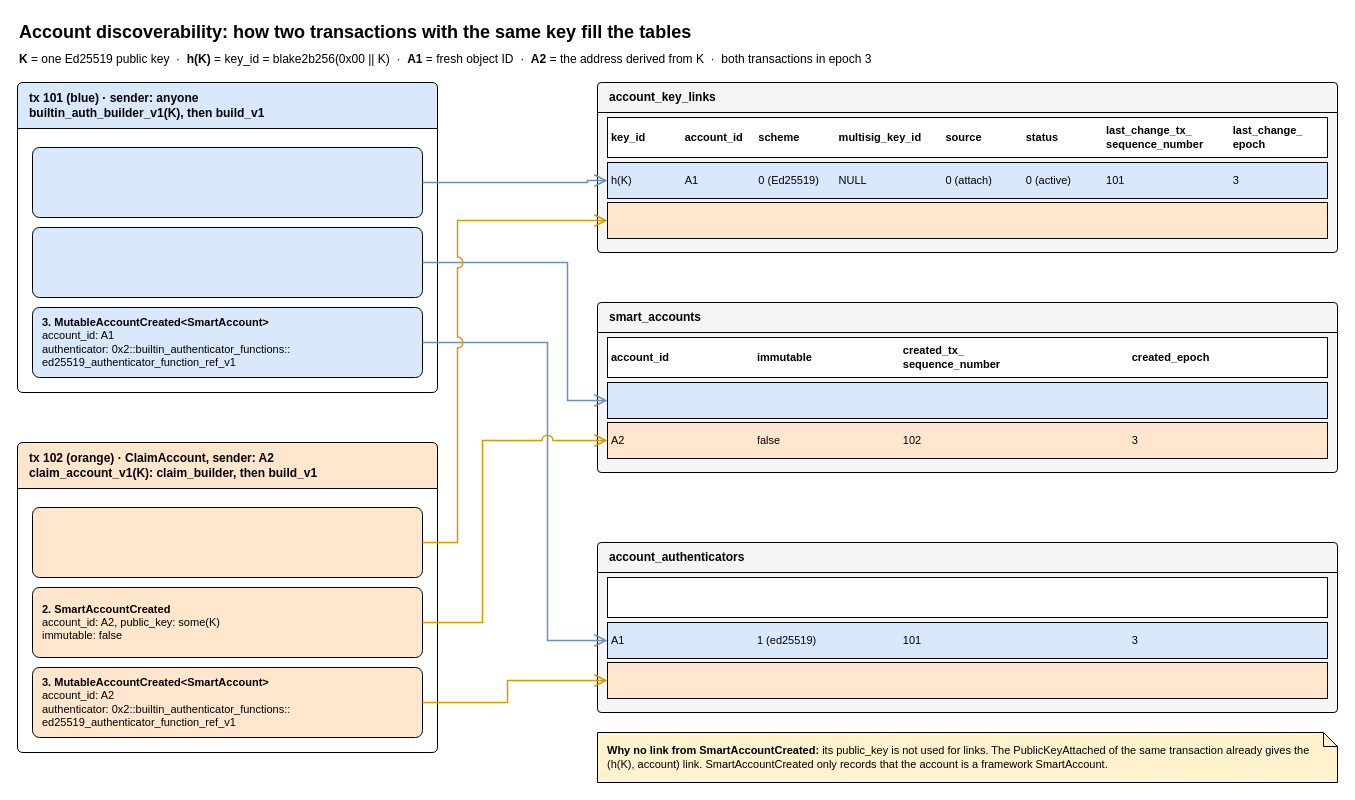
Some shapes in this 1355 by 800 pixel diagram are drawn without their labels. Each missing label, with the centre of its shape:
"1. PublicKeyAttached account_id: A1 public_key: K (scheme 0, Ed25519)" goes at point 227,182.
"1. PublicKeyAttached account_id: A2 public_key: K (scheme 0, Ed25519)" goes at point 227,542.
"2. SmartAccountCreated account_id: A1, public_key: some(K) immutable: false" goes at point 227,262.
"A1 false 101 3" goes at point 967,400.
"A2 1 (ed25519) 102 3" goes at point 967,680.
"account_id kind last_change_tx_ sequence_number last_change_ epoch" goes at point 967,597.
"h(K) A2 0 (Ed25519) NULL 0 (attach) 0 (active) 102 3" goes at point 967,220.
